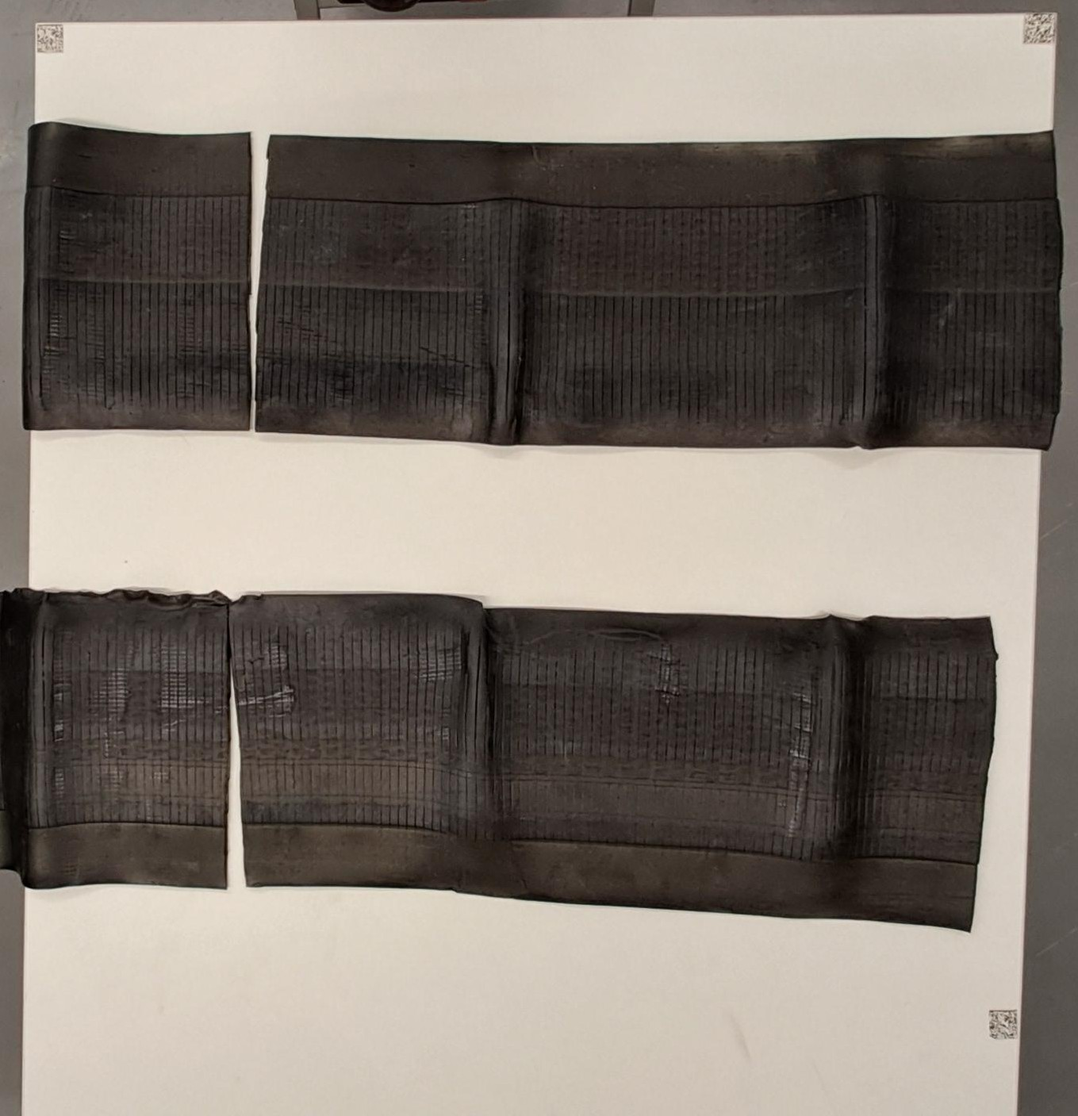qr_code: (1019, 8, 1061, 50), (984, 1005, 1023, 1045), (32, 19, 68, 58)
rubber_strip: (11, 111, 1078, 463), (0, 578, 1008, 942)
